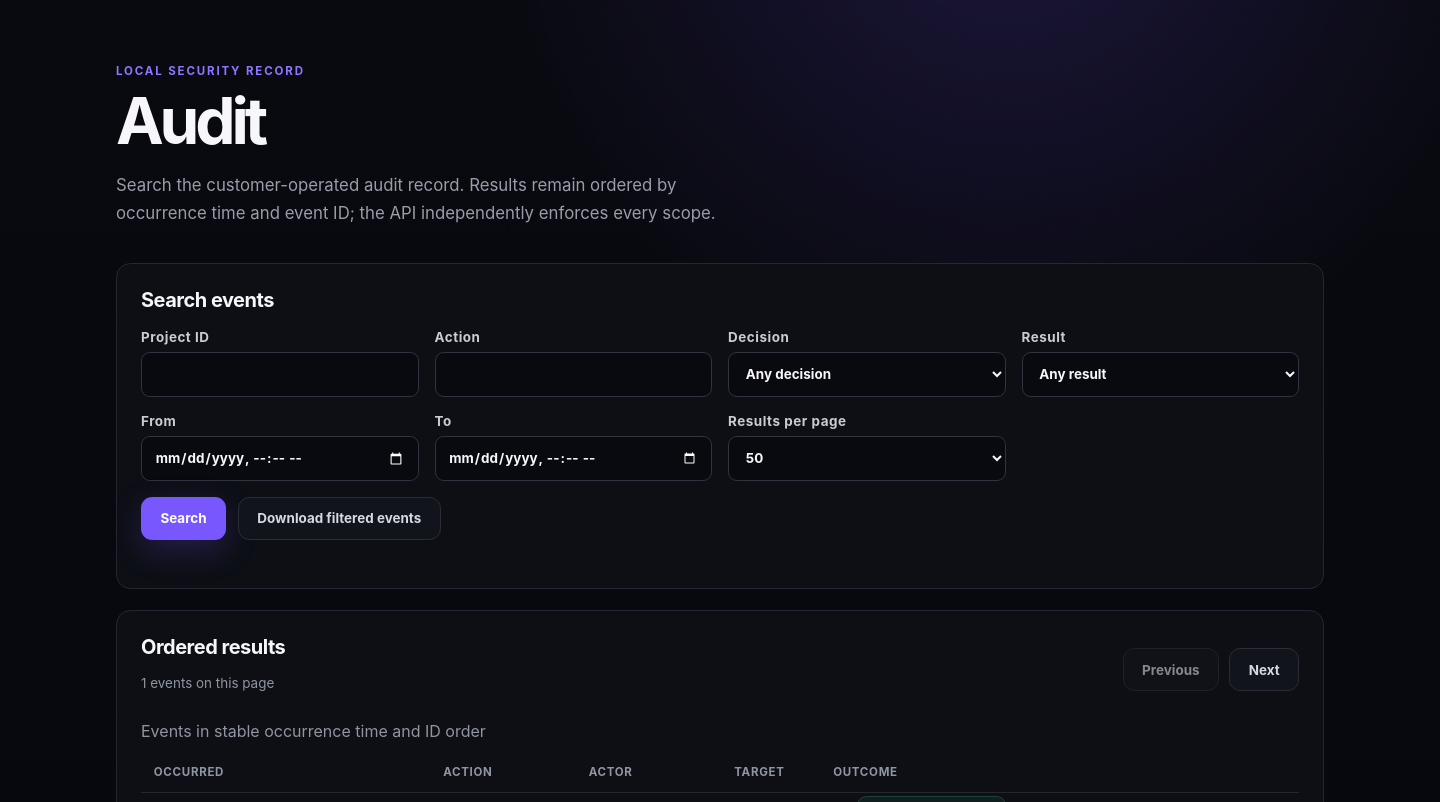
AuditView › loads one ordered page at a time and keeps filters for export
The image size is (1440, 802).
In the field labelled "Project ID": x=280, y=374 [141,352,418,397], type "research"
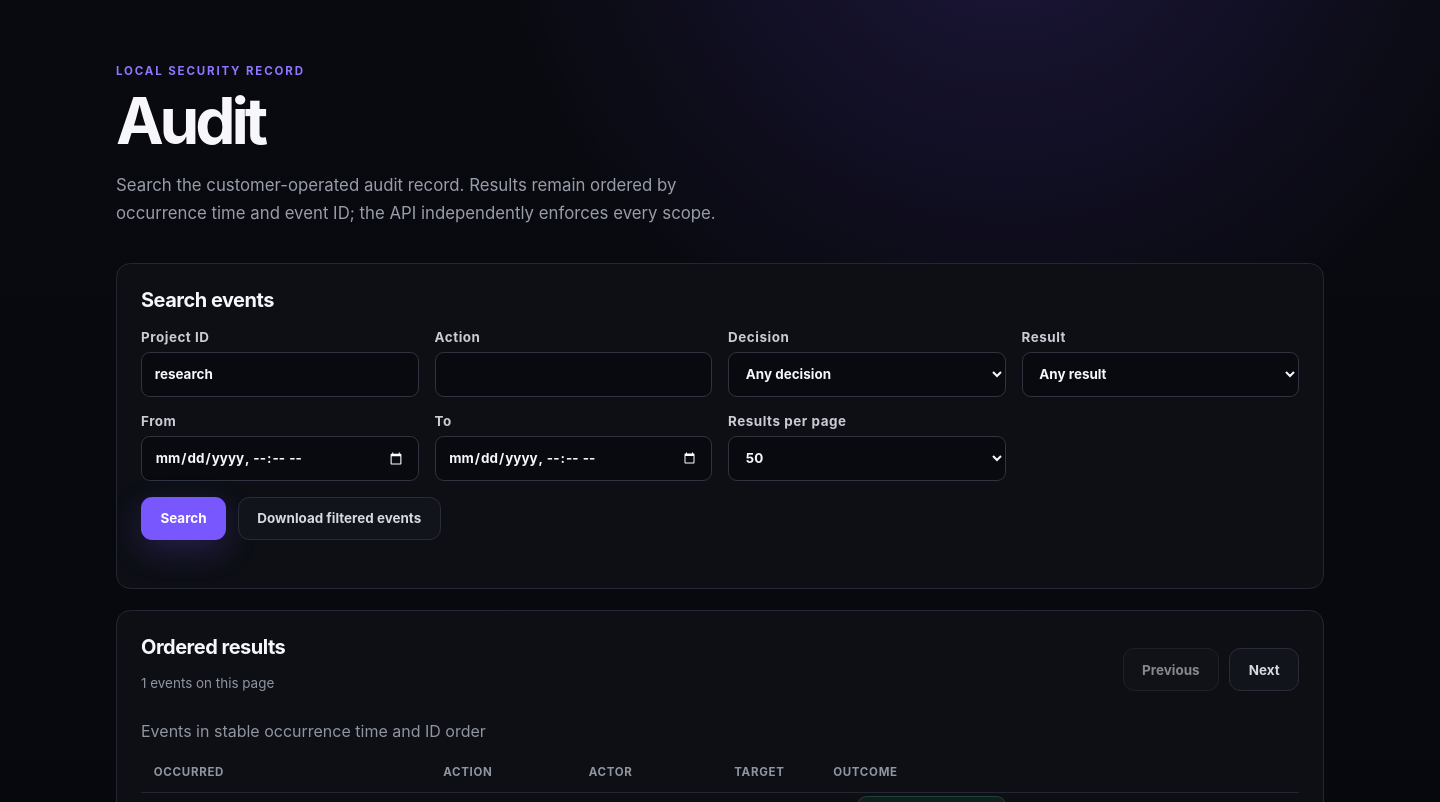
Select "Allow" in the dropdown labelled "Decision": x=867, y=374 [728,352,1006,397]
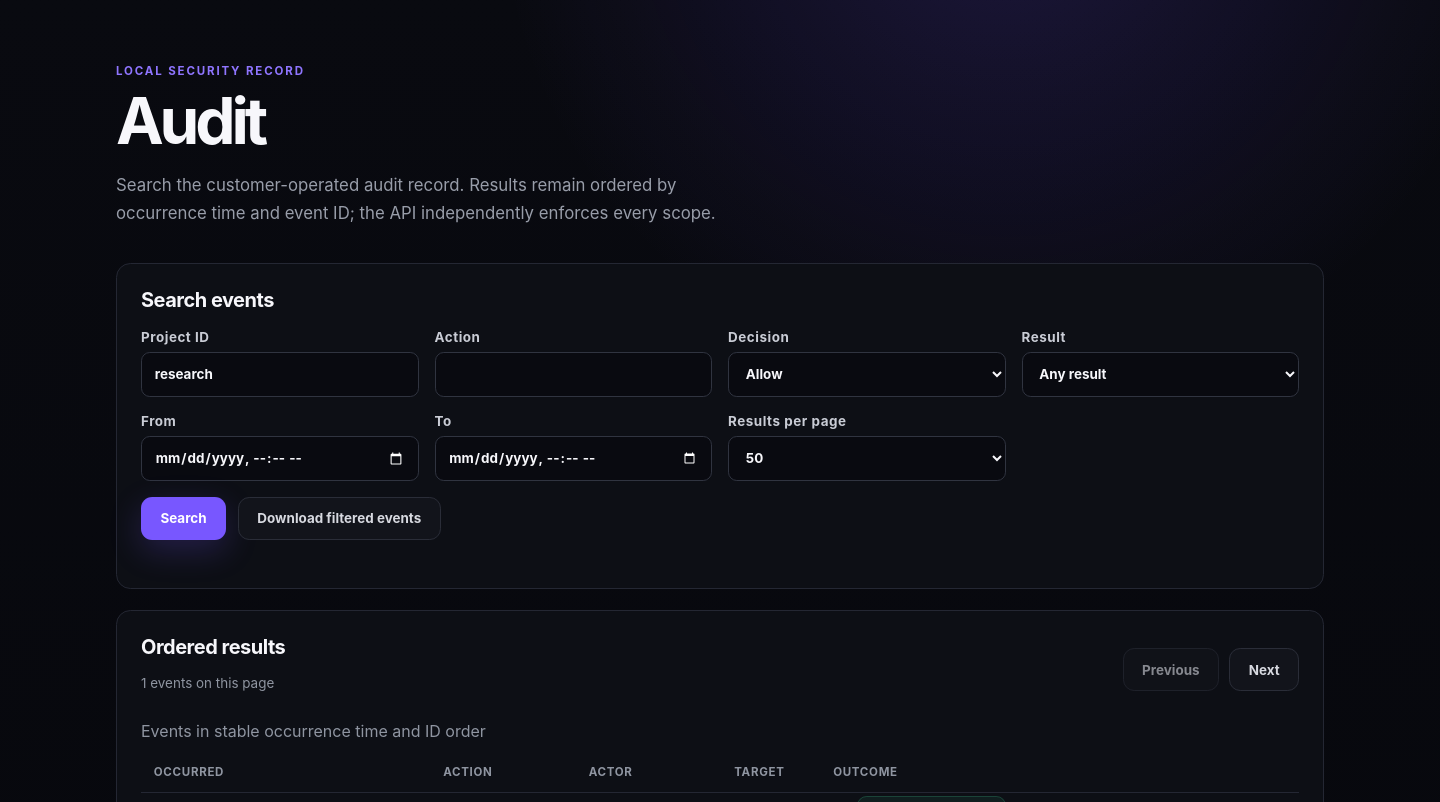
Click the button "Search": x=183, y=518 [141,497,226,540]
(page scrolled)
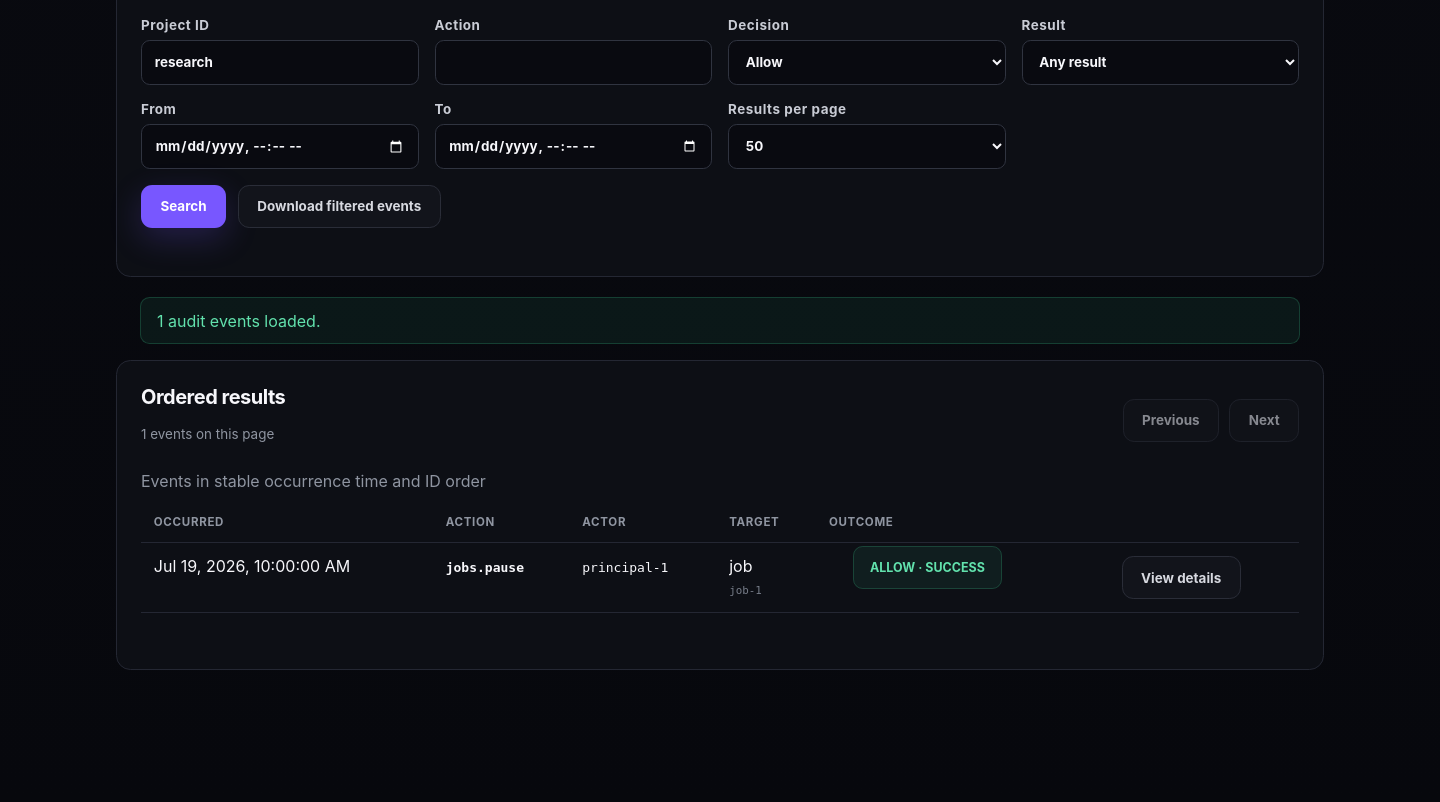
Expected: the message shows "1 audit events loaded", [157,311,320,331]
Expected: the row "jobs.pause" is shown, [141,543,1299,612]
